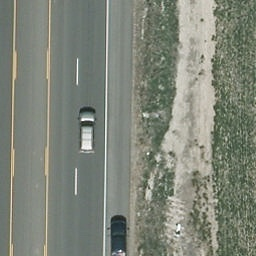car: (78, 111, 96, 153), (110, 214, 128, 256)
